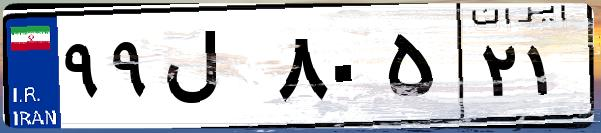0: (330, 28, 385, 110)
1: (525, 38, 570, 115)
2: (475, 38, 525, 113)
5: (385, 28, 445, 110)
8: (270, 28, 330, 110)
9: (57, 26, 110, 100), (110, 28, 158, 98)
ل: (158, 20, 270, 120)
